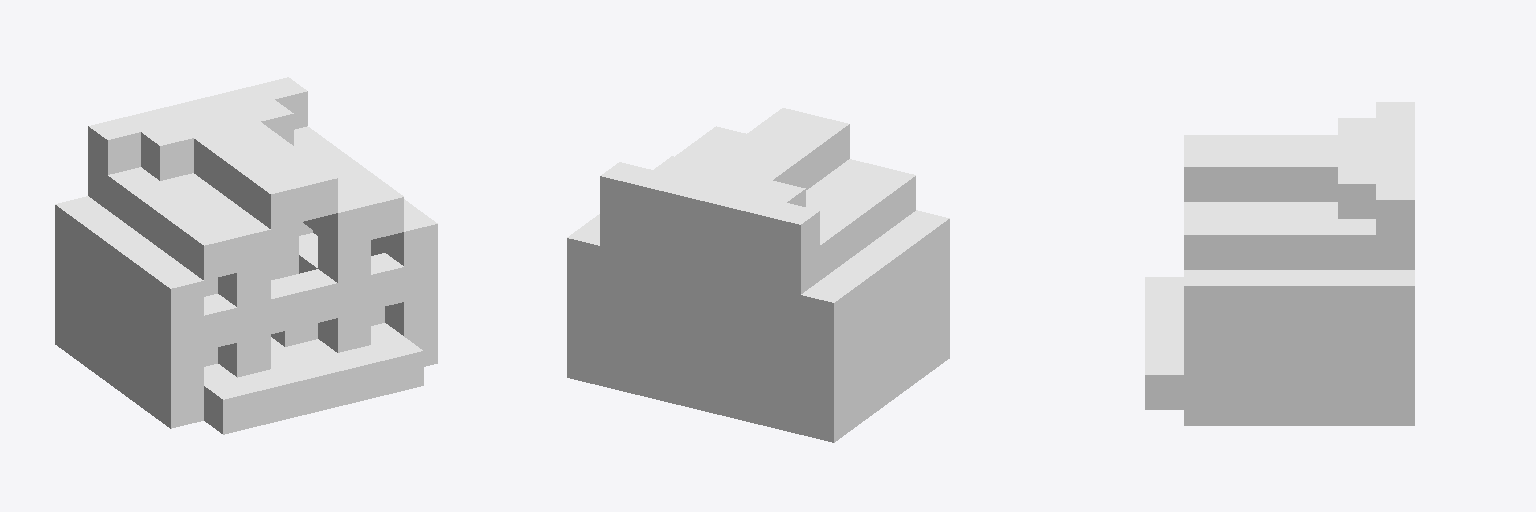
Rendered from oven.obj.
3 renders of one model, left to right at view 1: azimuth 30°, elevation 25°; view 2: azimuth 150°, elevation 25°; view 3: azimuth 270°, elevation 25°, orthographic.
Parts seen in each view (by area): view 1: object 1; view 2: object 1; view 3: object 1.
Boxes of the visible parts, box(x1,y1,x2,y2) form: object 1: box(55, 77, 437, 434); object 1: box(567, 108, 949, 442); object 1: box(1145, 102, 1414, 425).
Size of the model in its own units: 0.8 by 0.6 by 0.7.